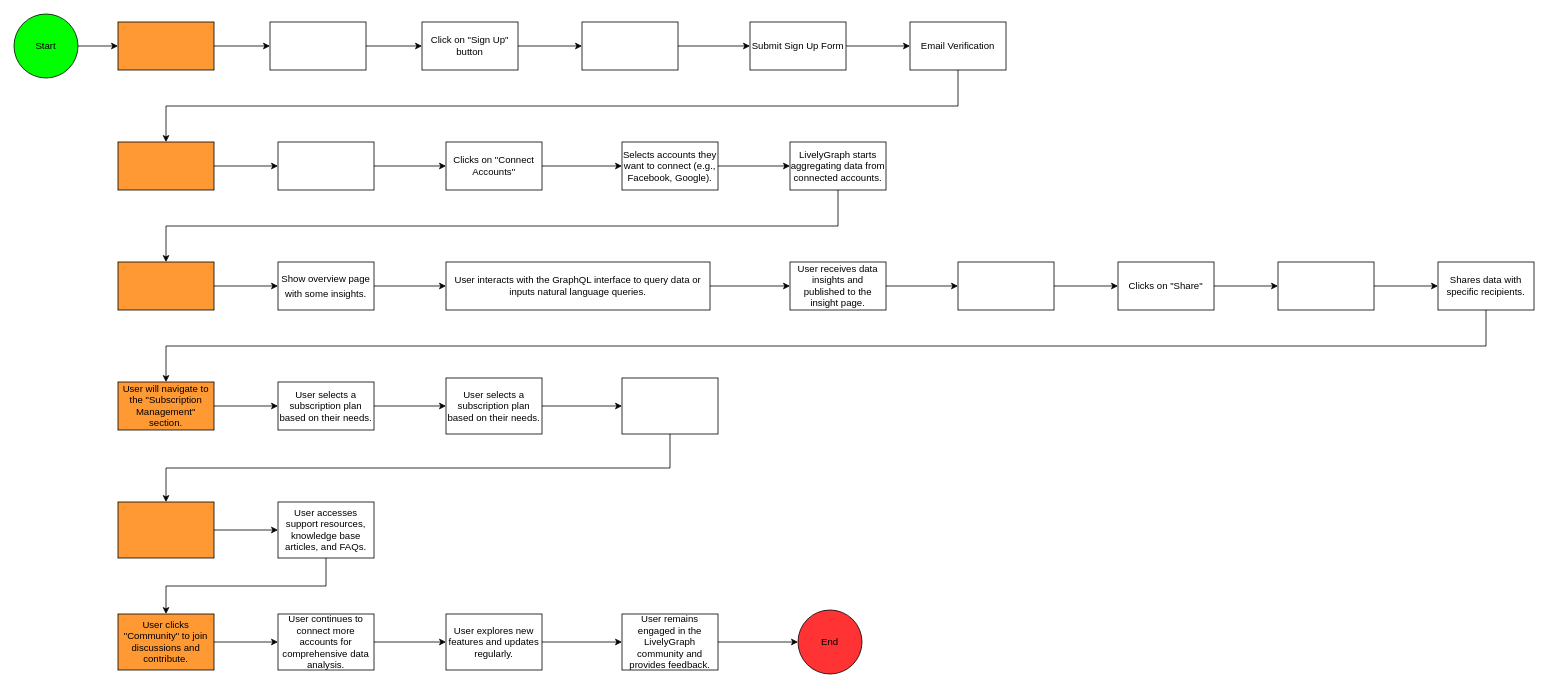
Some shapes in this 1548 by 688 pixel diagram are drawn without their labels. Each missing label, with the box of its shape:
Complete Onboarding Process: (117, 141, 214, 190)
Enter Sign Up details: (581, 21, 678, 70)
Landing Page: (117, 21, 214, 70)
Redirect to Dashboard: (277, 141, 374, 190)
User confirms subscription changes and sees the updated billing information.: (621, 377, 718, 434)
User defines sharing settings, sets permissions: (1277, 261, 1374, 310)
User selects specific data insights: (957, 261, 1054, 310)
User will navigate to the "Query Data" section.: (117, 261, 214, 310)
User will navigate to the "Support" section.: (117, 501, 214, 558)
View content and understand features & benefits: (269, 21, 366, 70)
